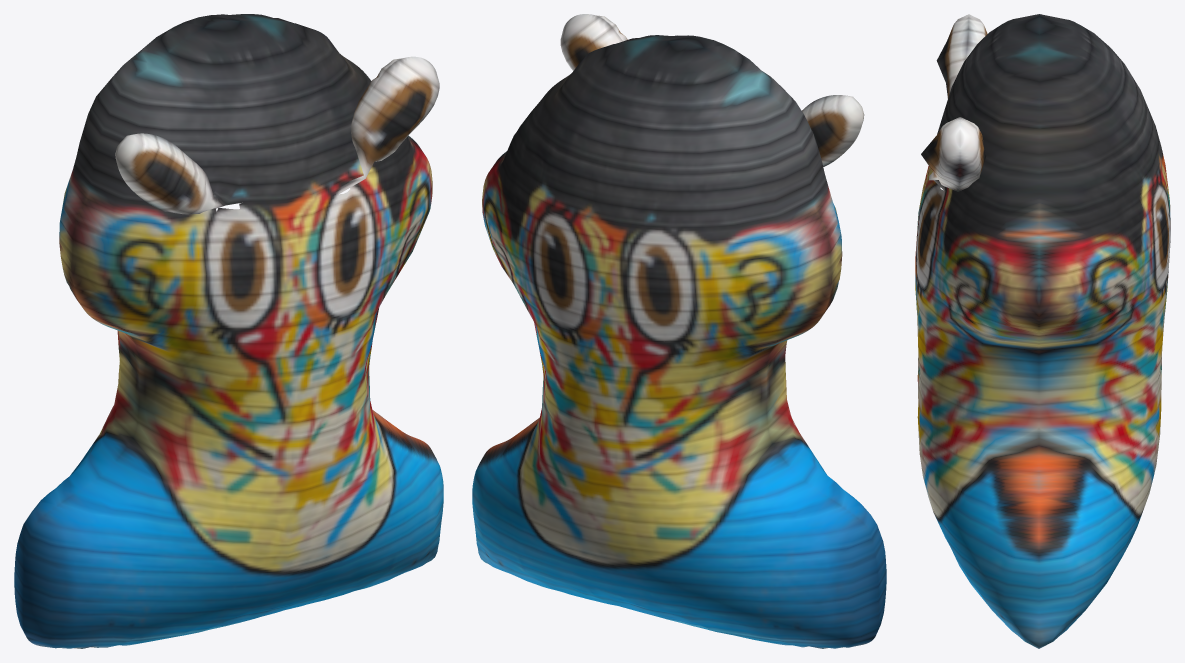
The model's file is Pablo.glb.
3 views of the same model, side by side, from view 1: azimuth 30°, elevation 25°; view 2: azimuth 150°, elevation 25°; view 3: azimuth 270°, elevation 25° (orthographic). The views are drawn at different scales.
Bounding box in the file's own units: 1.71 × 2.34 × 1.01.
Materials: 1 (1 with a texture image).
